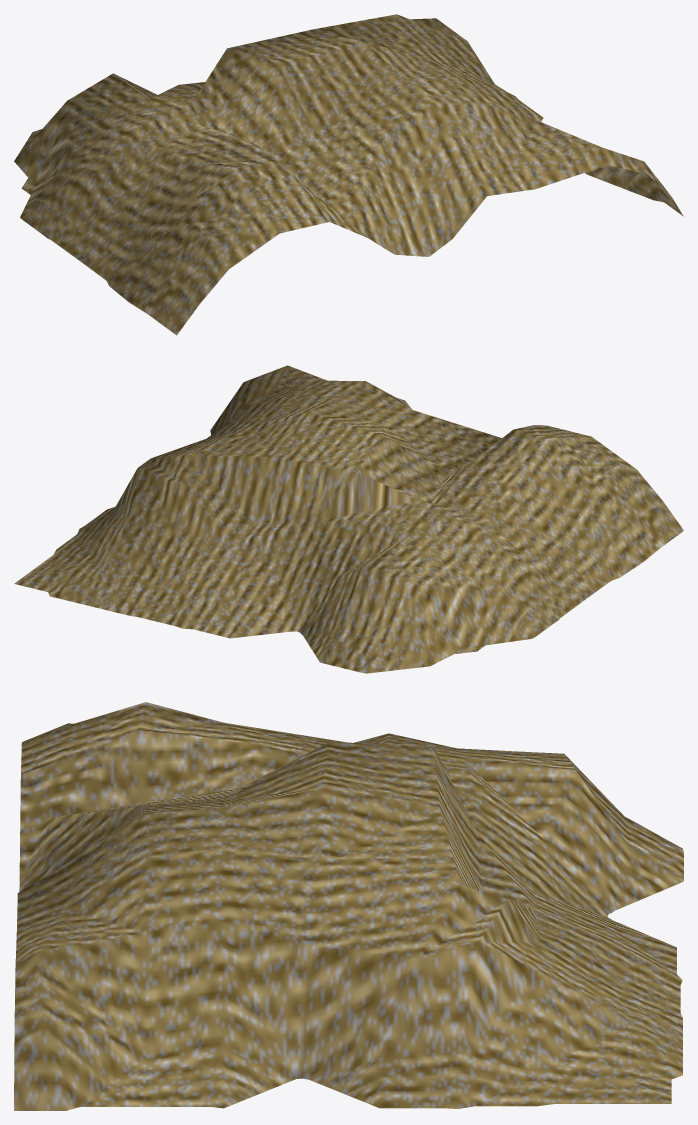
Rendered from Hill.fbx.
3 views of the same model, one above another, from view 1: azimuth 30°, elevation 25°; view 2: azimuth 150°, elevation 25°; view 3: azimuth 270°, elevation 25° (orthographic). The views are drawn at different scales.
Visible parts, largest first — view 1: HillModel; view 2: HillModel; view 3: HillModel.
Part boxes in pixels (left/top/right/bottom): HillModel: left=14, top=14, right=683, bottom=335; HillModel: left=14, top=365, right=683, bottom=673; HillModel: left=14, top=702, right=683, bottom=1110.
Bounding box in the file's own units: 76.78 × 20.4 × 65.73.
